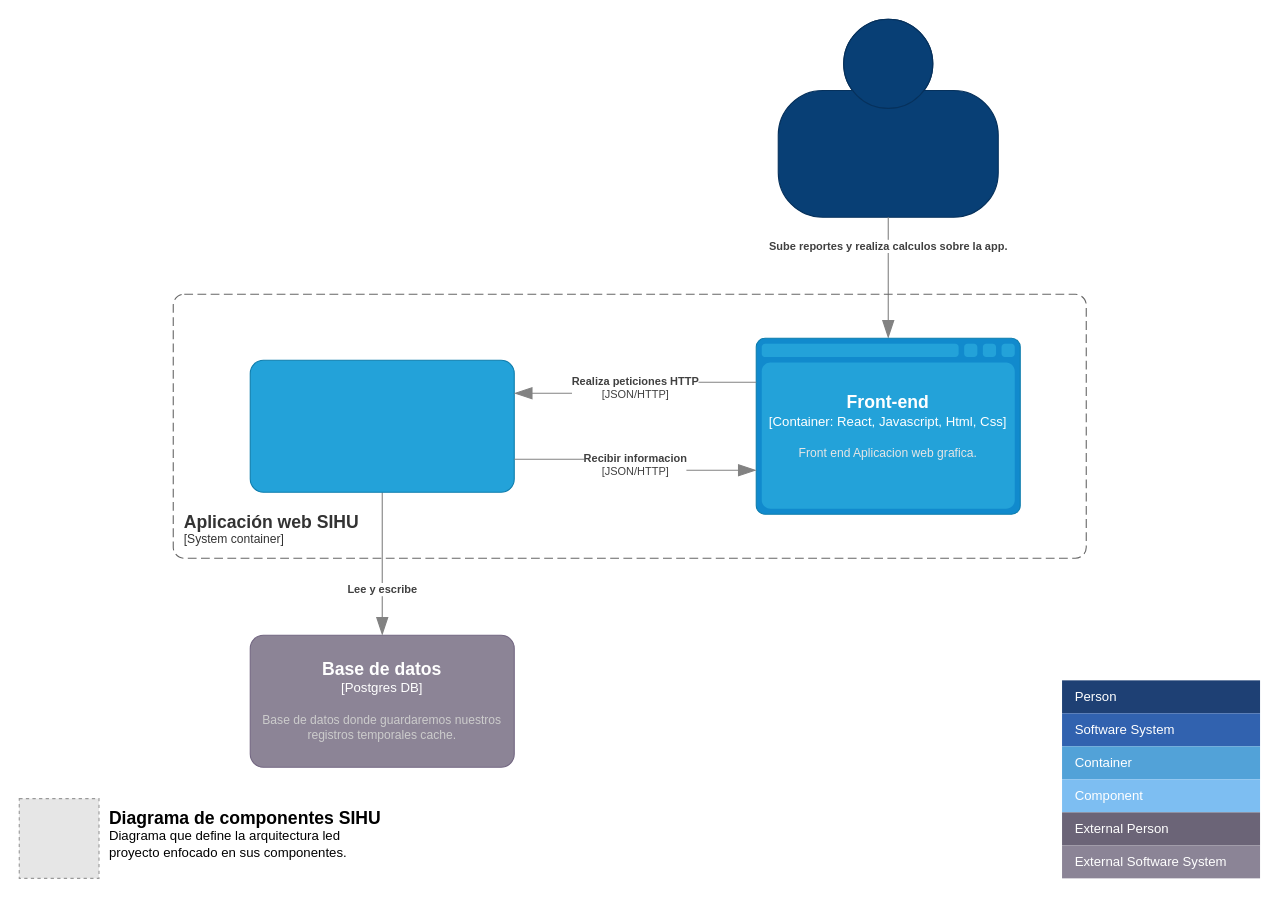
Image size: 1279x898. Some labels were removed from this diagram. Grey dashed boxes stand in for pictures. Here are the shapes that lost their labels. From the top down, the centre of each, then its label:
At point (887, 117): "usuario [user web] Usuario externo".
At point (381, 425): "Backend App Web [Container: FastAPI, Python] Backend de SIHU".
